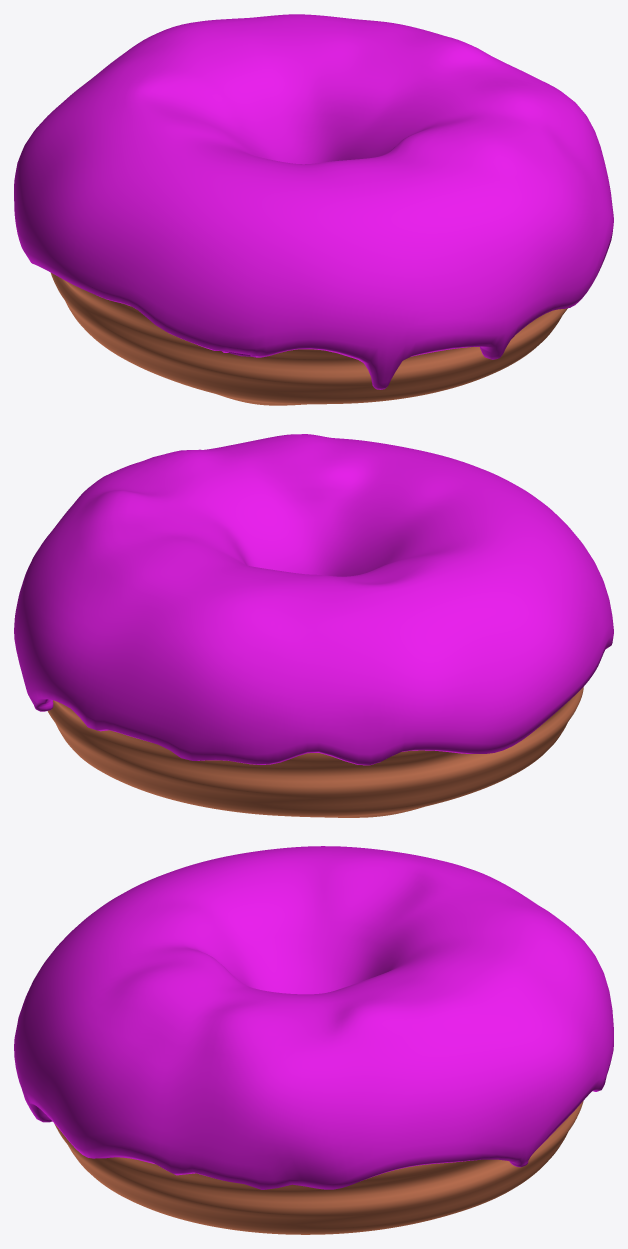
The model's file is Doughnut.glb.
3 renders of one model, top to bottom at view 1: azimuth 30°, elevation 25°; view 2: azimuth 150°, elevation 25°; view 3: azimuth 270°, elevation 25°, orthographic.
Visible parts, largest first — view 1: Icing, Donut; view 2: Icing, Donut; view 3: Icing, Donut.
Part boxes in pixels (box(x1,y1,x2,y2)): Icing: box(14, 14, 613, 389); Donut: box(51, 273, 567, 405); Icing: box(14, 434, 613, 765); Donut: box(47, 687, 583, 817); Icing: box(14, 846, 613, 1189); Donut: box(54, 1101, 583, 1234).
Size of what is drawn, in the model's own units: 0.1042 by 0.0451 by 0.1047.
